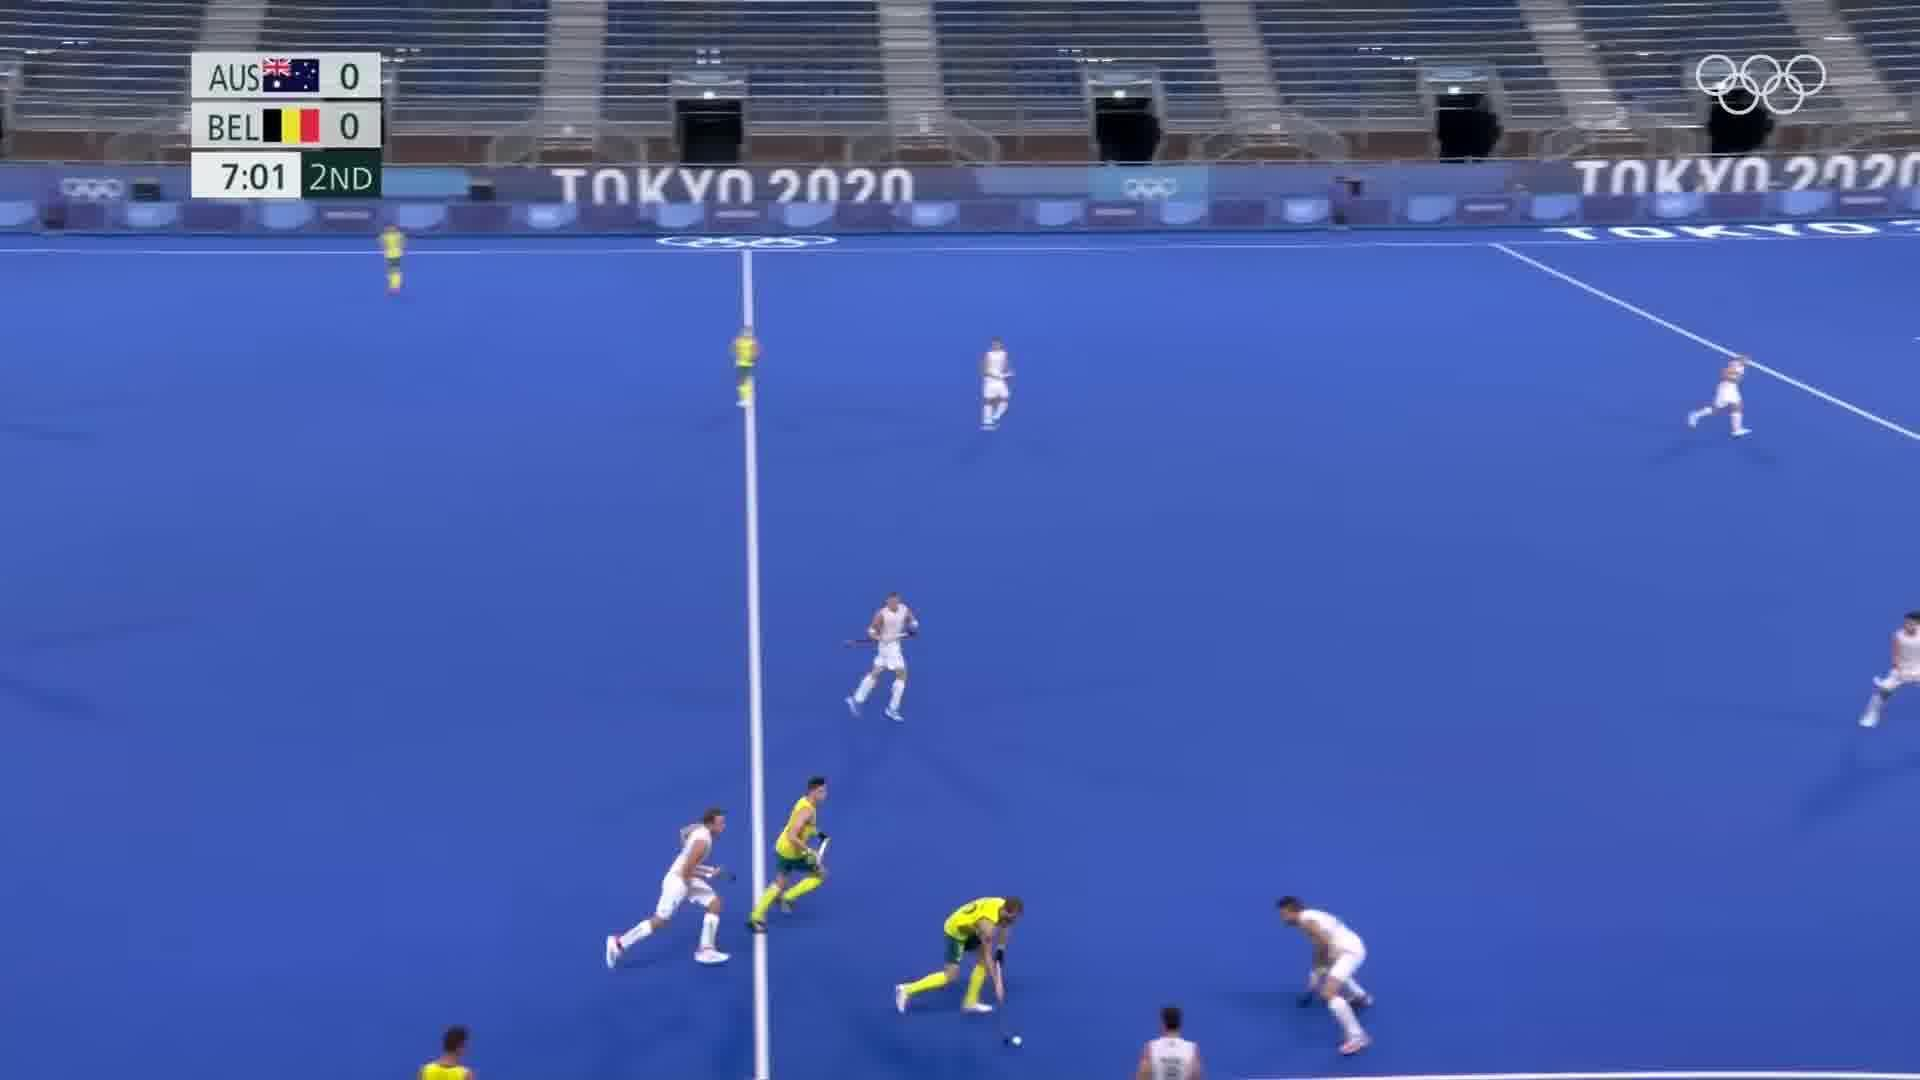ball: (1003, 1029, 1034, 1054)
